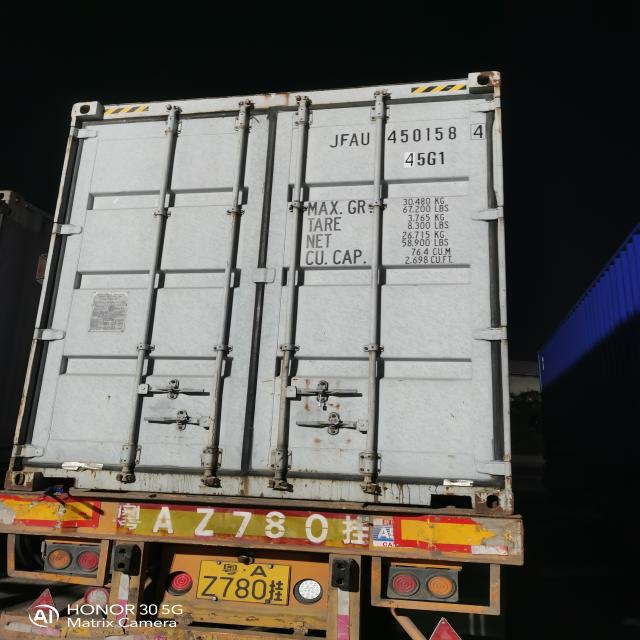seal: (317, 387, 325, 408)
